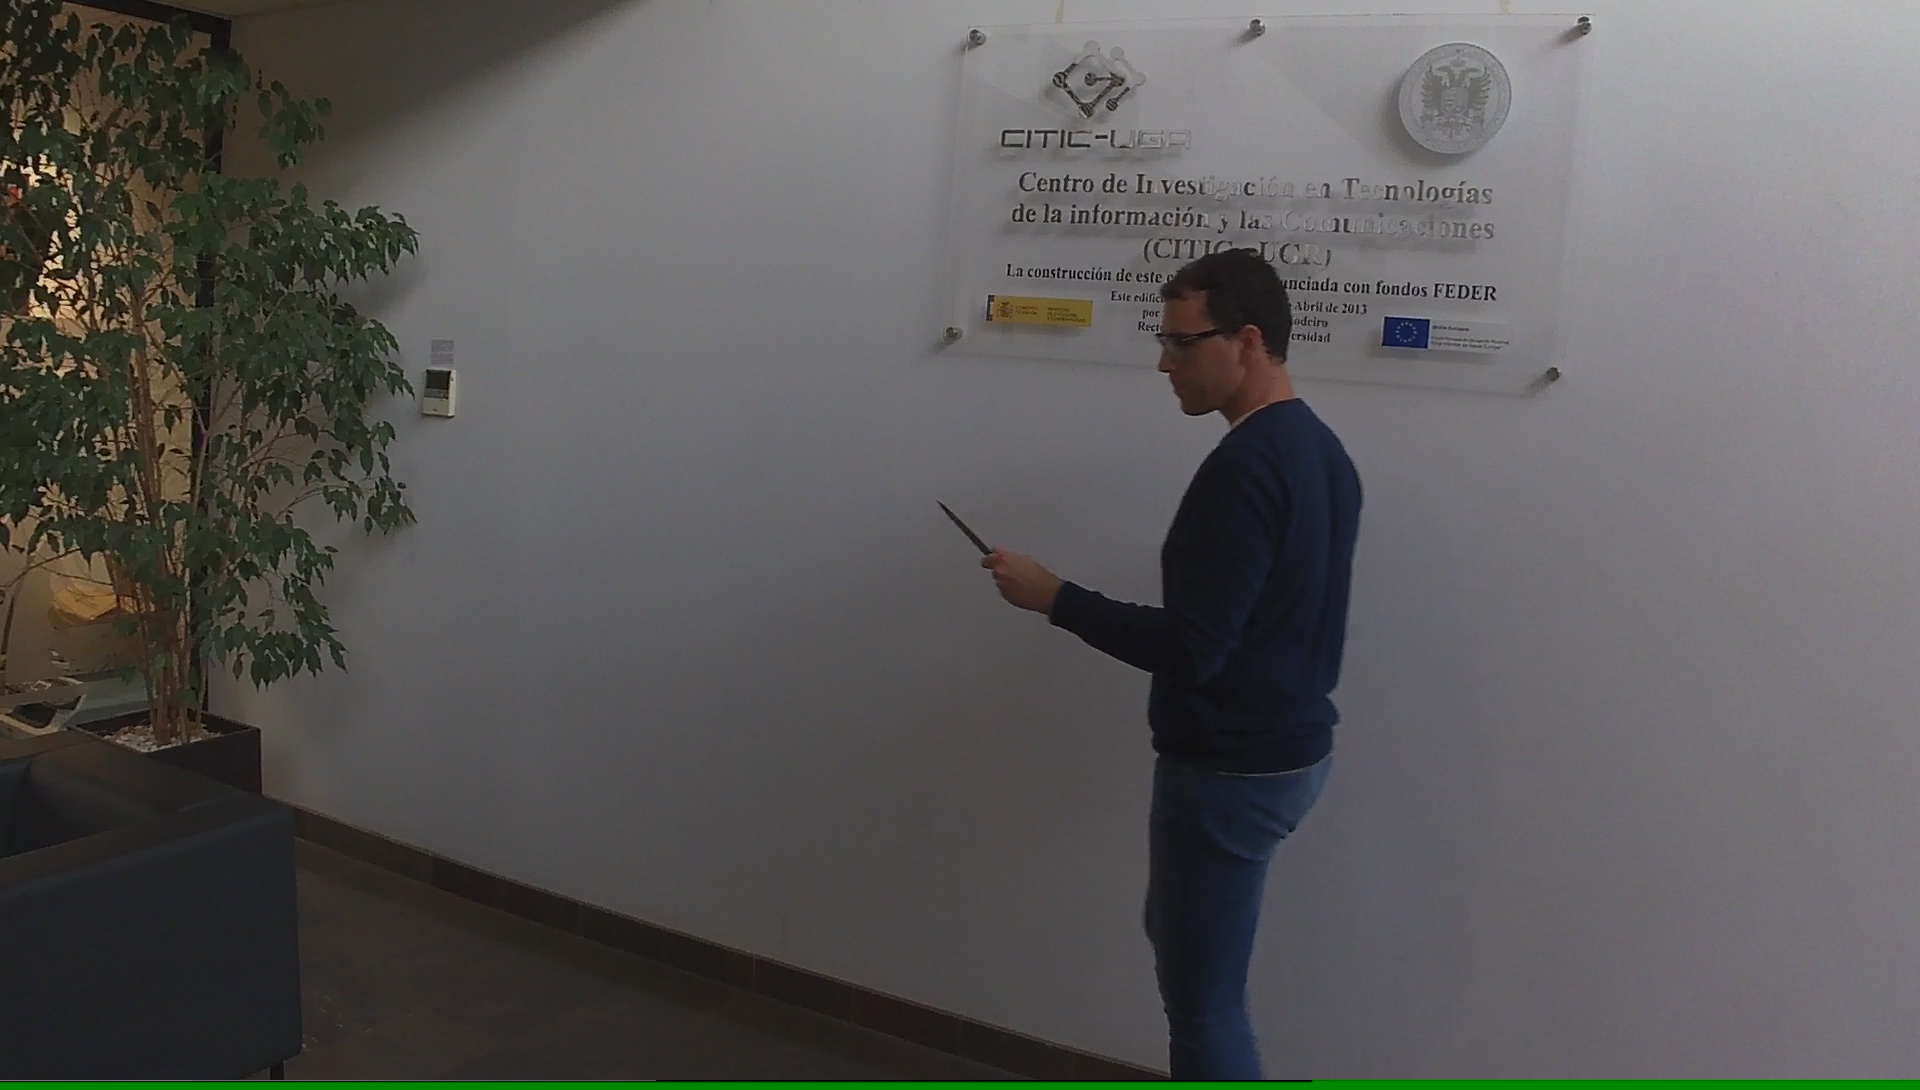knife: (924, 486, 1017, 581)
